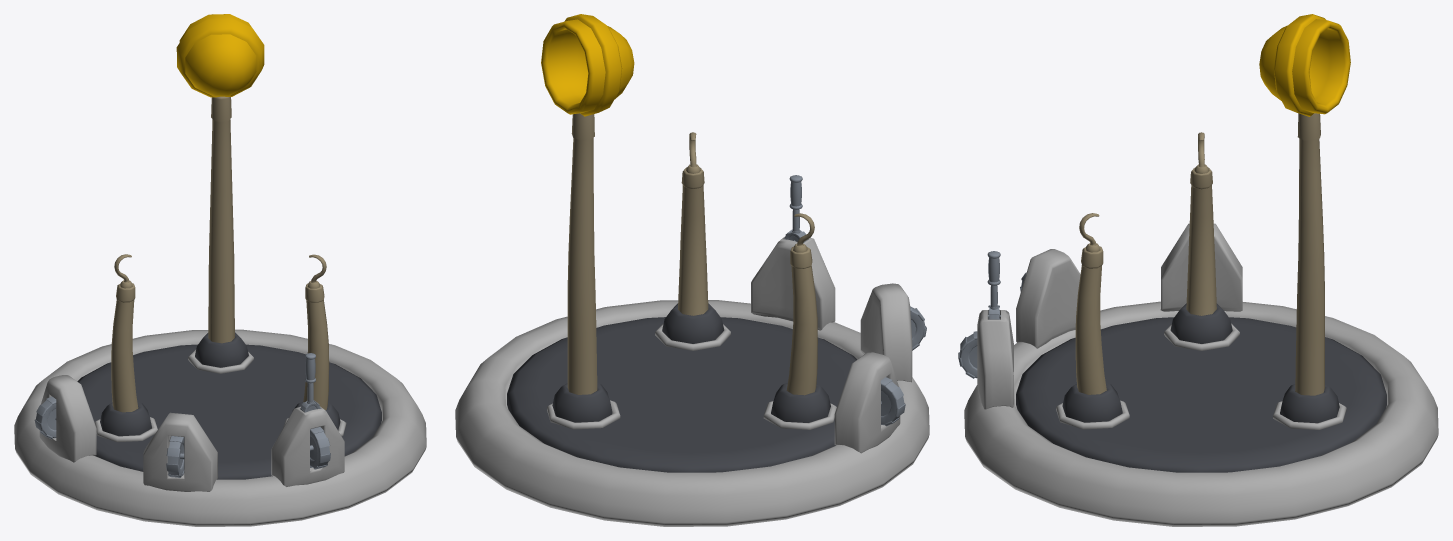
Rendered from Catapult V2.fbx.
The picture shows the model from 3 angles, left to right: view 1: azimuth 30°, elevation 25°; view 2: azimuth 150°, elevation 25°; view 3: azimuth 270°, elevation 25°; orthographic projection. The views are drawn at different scales.
Parts seen in each view (by area): view 1: Base, Disc, Terminal (×3), Beam (×3), Basket, Terminal_Cog (×3), Sphere_Mount, Sphere, ring2, ring1; view 2: Base, Disc, Beam (×3), Terminal (×3), Basket, Sphere (×2), Sphere_Mount, Terminal_Cog, ring1, ring2, ring3; view 3: Disc, Base, Beam (×3), Terminal (×3), Basket, Sphere (×2), Sphere_Mount, Terminal_Cog, ring3, ring1, ring2.
Boxes of the visible parts, x1,y1,x2,y2 form: Base: (14,329,426,526); Disc: (77,344,381,479); Terminal (×3): (39,375,344,491); Beam (×3): (111,96,329,412); Basket: (176,14,264,97); Terminal_Cog (×3): (34,396,330,477); Sphere_Mount: (195,332,248,367); Sphere: (100,401,151,436); ring2: (94,417,157,442); ring1: (188,349,253,373); Base: (455,300,929,526); Disc: (507,317,856,472); Beam (×3): (567,113,817,395); Terminal (×3): (751,236,912,453); Basket: (541,14,634,116); Sphere (×2): (662,303,830,422); Sphere_Mount: (552,383,612,422); Terminal_Cog: (880,377,905,426); ring1: (547,400,620,429); ring2: (763,401,836,429); ring3: (655,323,730,350); Disc: (1016,317,1386,472); Base: (964,301,1438,526); Beam (×3): (1075,113,1324,395); Terminal (×3): (977,223,1242,409); Basket: (1259,14,1350,116); Sphere (×2): (1062,303,1232,422); Sphere_Mount: (1280,384,1339,423); Terminal_Cog: (958,331,977,378); ring3: (1056,400,1129,429); ring1: (1273,401,1346,429); ring2: (1164,323,1239,350).
Size of the model in its own units: 587 by 586 by 587.
